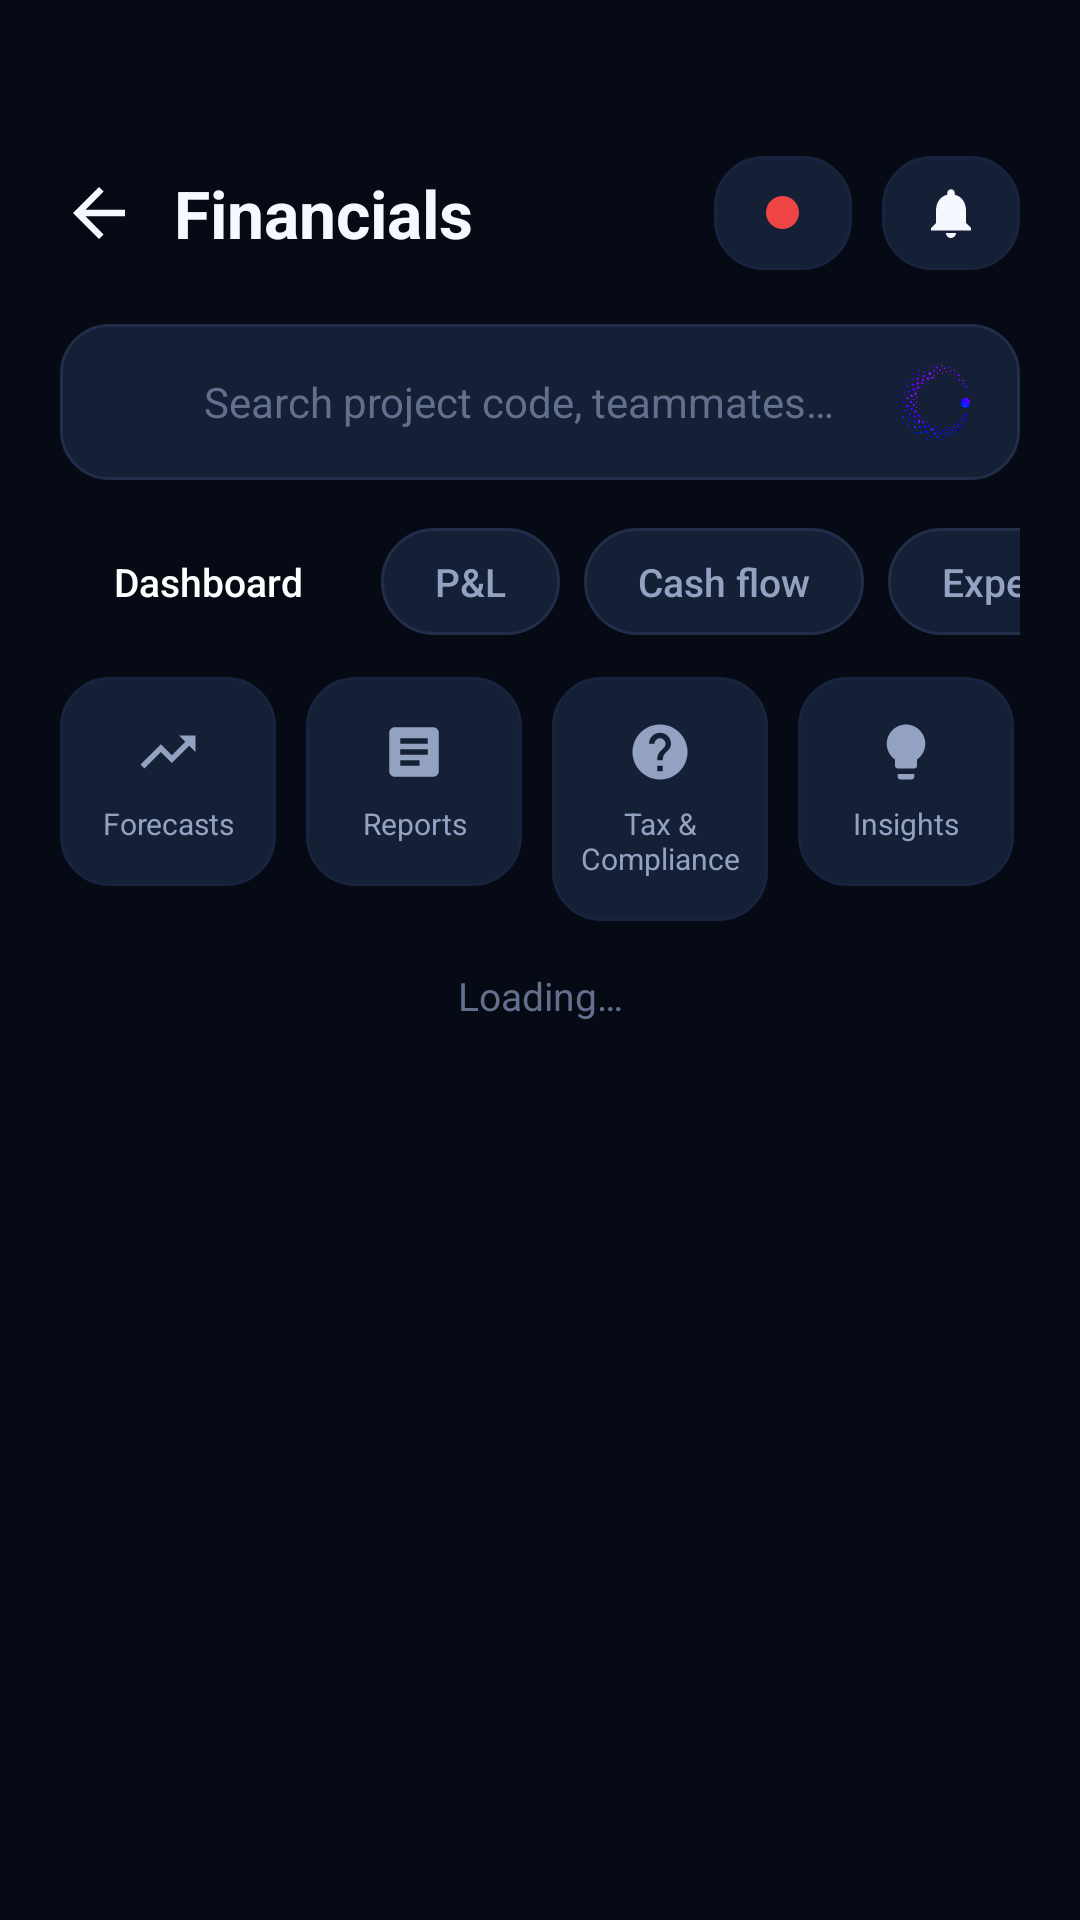

Named icons in this screenshot (1080 x 1920) and their bounding boxes, {"x1": x1, "y1": y1, "x2": x2, "y2": y2}:
arrow back: {"x1": 73, "y1": 187, "x2": 125, "y2": 239}
bell: {"x1": 931, "y1": 189, "x2": 971, "y2": 238}
bulb: {"x1": 886, "y1": 724, "x2": 926, "y2": 780}
help: {"x1": 632, "y1": 724, "x2": 688, "y2": 780}
note: {"x1": 389, "y1": 727, "x2": 439, "y2": 777}
trending: {"x1": 140, "y1": 735, "x2": 196, "y2": 769}
